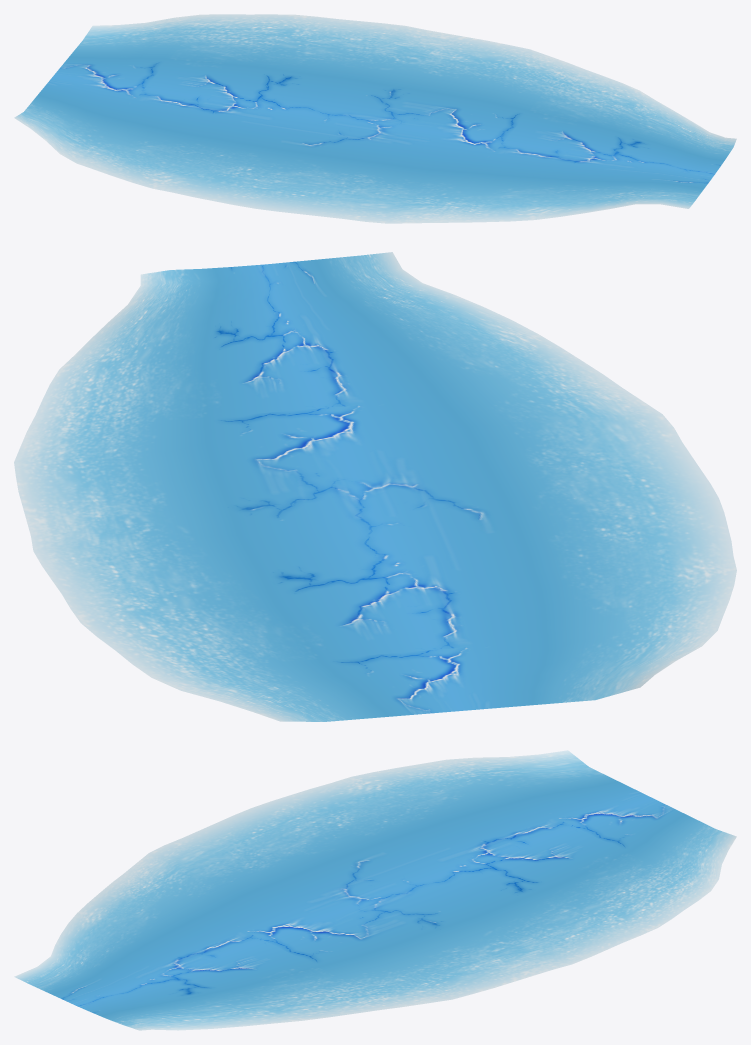
Rendered from Track2Ice.fbx.
3 renders of one model, top to bottom at view 1: azimuth 30°, elevation 25°; view 2: azimuth 150°, elevation 25°; view 3: azimuth 270°, elevation 25°, orthographic. The views are drawn at different scales.
Parts seen in each view (by area): view 1: Track2RoadIce; view 2: Track2RoadIce; view 3: Track2RoadIce.
Boxes of the visible parts, <box> form: Track2RoadIce: <box>14,14,736,223</box>; Track2RoadIce: <box>14,252,736,721</box>; Track2RoadIce: <box>14,750,736,1030</box>.
Size of the model in its own units: 8302 by 121 by 9174.
